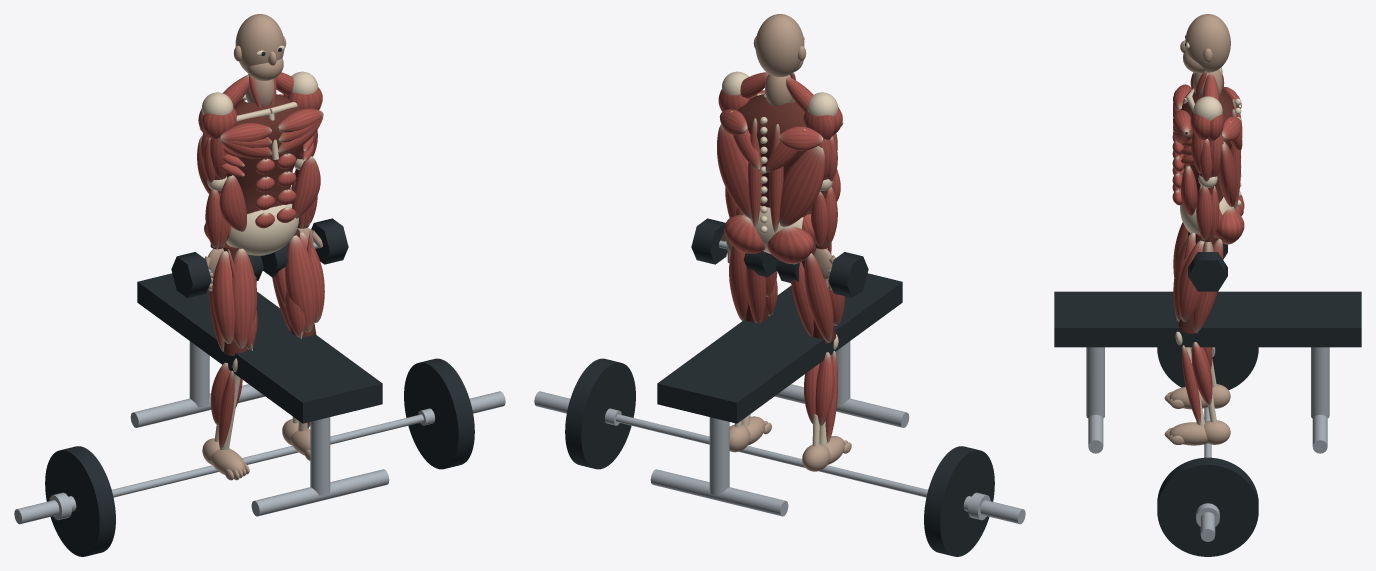
The picture shows the model from 3 angles, left to right: view 1: azimuth 30°, elevation 25°; view 2: azimuth 150°, elevation 25°; view 3: azimuth 270°, elevation 25°; orthographic projection. The views are drawn at different scales.
Parts seen in each view (by area): view 1: bench_pad, plate_1, plate_-1, deep_trunk_tissue, bar_shaft, bench_foot1, rectus_femoris_R, pelvic_fascia, cranium, rectus_femoris_L, vastus_lateralis_L, bench_leg1 (+17 smaller); view 2: bench_pad, plate_1, plate_-1, latissimus_dorsi_L, cranium, deep_trunk_tissue, bar_shaft, bench_foot-1, latissimus_dorsi_R, biceps_femoris_L, bench_leg-1, bench_foot1 (+20 smaller); view 3: bench_pad, plate_1, plate_-1, cranium, bench_leg-1, bench_leg1, hex_weight_R1, vastus_lateralis_R, latissimus_dorsi_R, gastrocnemius_R_1, deep_trunk_tissue, gluteus_maximus_R (+16 smaller).
Boxes of the visible parts, <box> form: bench_pad: <box>137,273,382,423</box>; plate_1: <box>404,358,474,469</box>; plate_-1: <box>45,446,115,556</box>; deep_trunk_tissue: <box>226,94,302,214</box>; bar_shaft: <box>112,414,423,497</box>; bench_foot1: <box>251,469,389,516</box>; rectus_femoris_R: <box>285,235,317,332</box>; pelvic_fascia: <box>226,204,298,255</box>; cranium: <box>235,14,284,72</box>; rectus_femoris_L: <box>232,248,257,348</box>; vastus_lateralis_L: <box>212,251,234,343</box>; bench_leg1: <box>310,417,330,495</box>; bench_pad: <box>657,273,902,423</box>; plate_1: <box>565,358,635,469</box>; plate_-1: <box>924,446,994,556</box>; latissimus_dorsi_L: <box>779,146,825,226</box>; cranium: <box>755,14,804,76</box>; deep_trunk_tissue: <box>738,94,811,217</box>; bar_shaft: <box>616,414,927,497</box>; bench_foot-1: <box>650,469,788,516</box>; latissimus_dorsi_R: <box>717,124,751,218</box>; biceps_femoris_L: <box>804,253,833,342</box>; bench_leg-1: <box>709,417,729,495</box>; bench_foot1: <box>774,384,909,427</box>; bench_pad: <box>1054,291,1361,347</box>; plate_1: <box>1157,457,1258,556</box>; plate_-1: <box>1157,347,1258,389</box>; cranium: <box>1185,14,1230,72</box>; bench_leg-1: <box>1311,347,1329,418</box>; bench_leg1: <box>1086,347,1104,418</box>; hex_weight_R1: <box>1188,252,1227,291</box>; vastus_lateralis_R: <box>1178,240,1204,321</box>; latissimus_dorsi_R: <box>1218,141,1237,206</box>; gastrocnemius_R_1: <box>1191,342,1212,405</box>; deep_trunk_tissue: <box>1181,89,1234,203</box>; gluteus_maximus_R: <box>1215,208,1244,244</box>.
Bounding box in the file's own units: 1.94 × 1.88 × 1.15.
